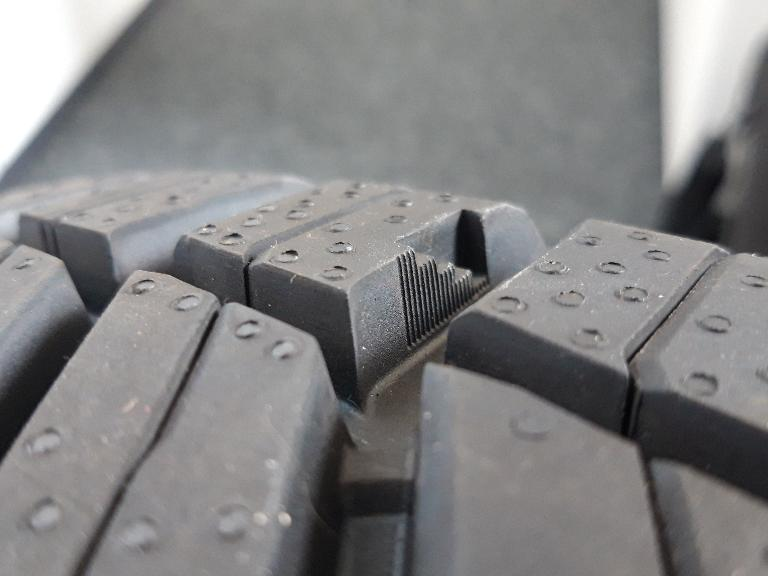temoin:100: (393, 207, 493, 344)
